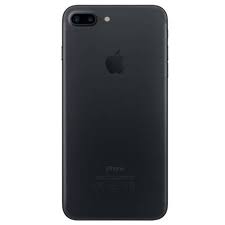iphone: (59, 2, 168, 221)
iphone7: (57, 1, 170, 222)
